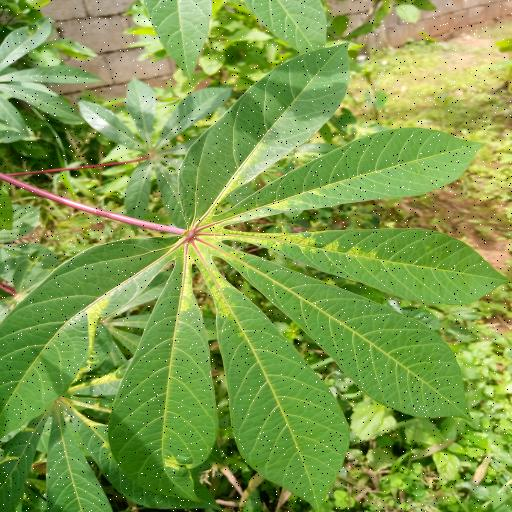Cassava_Mosaic: (0, 43, 512, 512)
